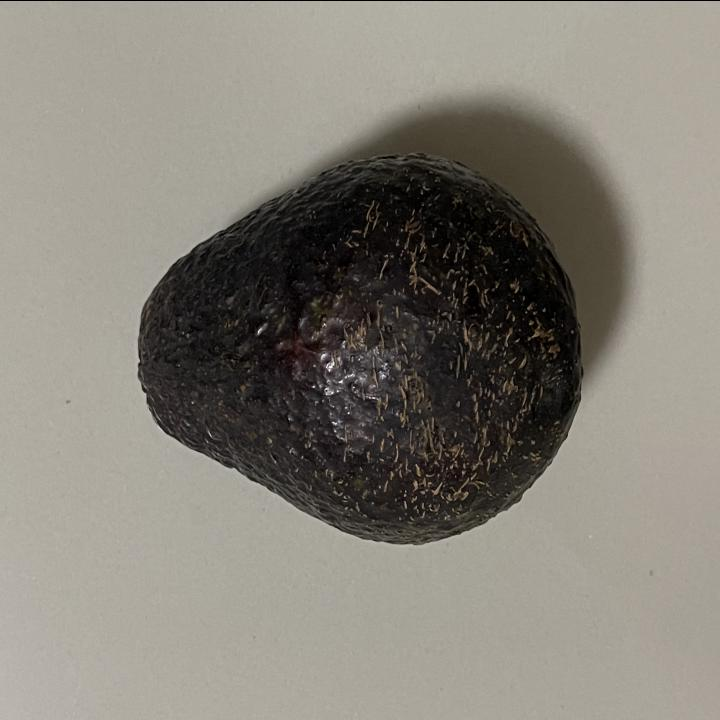Level3: (125, 144, 591, 556)
